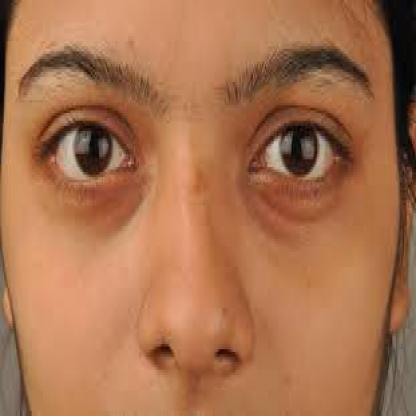darkspot: (61, 182, 89, 243), (292, 207, 301, 225)
